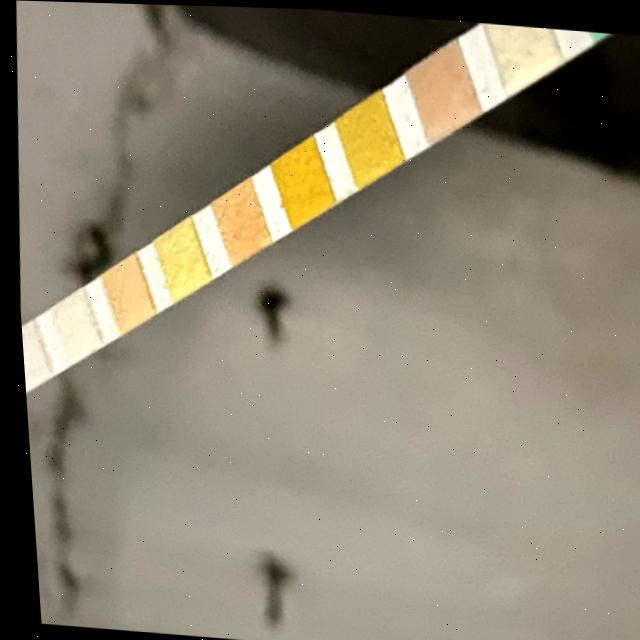Bilirubin: (495, 20, 550, 71)
Blood: (280, 153, 324, 213)
Ketone: (416, 59, 468, 122)
Leukocytes: (17, 331, 44, 379)
Nitrite: (53, 301, 91, 352)
Protein: (158, 230, 198, 289)
SpGravity: (347, 107, 391, 172)
Urobilinogen: (104, 265, 144, 321)
pH: (218, 194, 260, 252)
